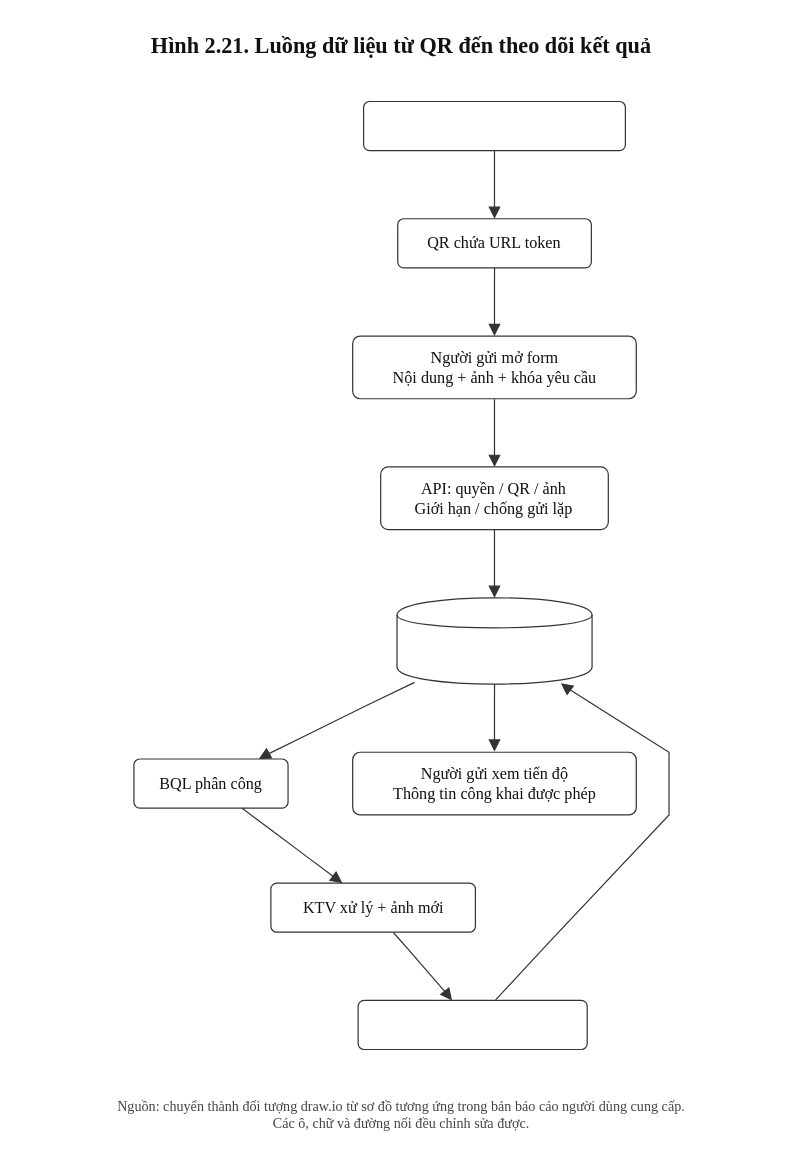
Some shapes in this 802 by 1173 pixel diagram are drawn without their labels. The shapes that lost their labels are listed below. From the top down, each one's box as (x1, y1, x2, y2) in pixels, then its label:
(362, 100, 625, 151): BQL cấu hình vị trí / thiết bị
(396, 597, 592, 684): Phản ánh + snapshot Ảnh + nhật ký
(357, 999, 587, 1050): BQL nghiệm thu / trả lại
